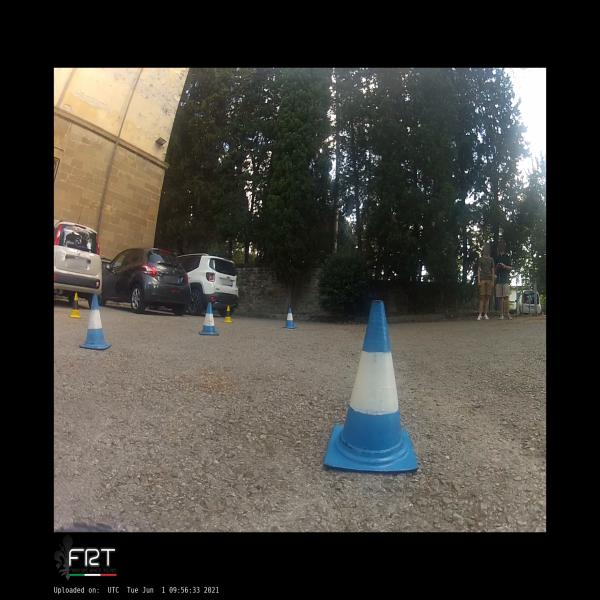blue_cone: (323, 300, 419, 472), (79, 293, 112, 350), (199, 302, 219, 335), (282, 308, 298, 329)
yellow_cone: (69, 293, 82, 318), (222, 306, 234, 324)
